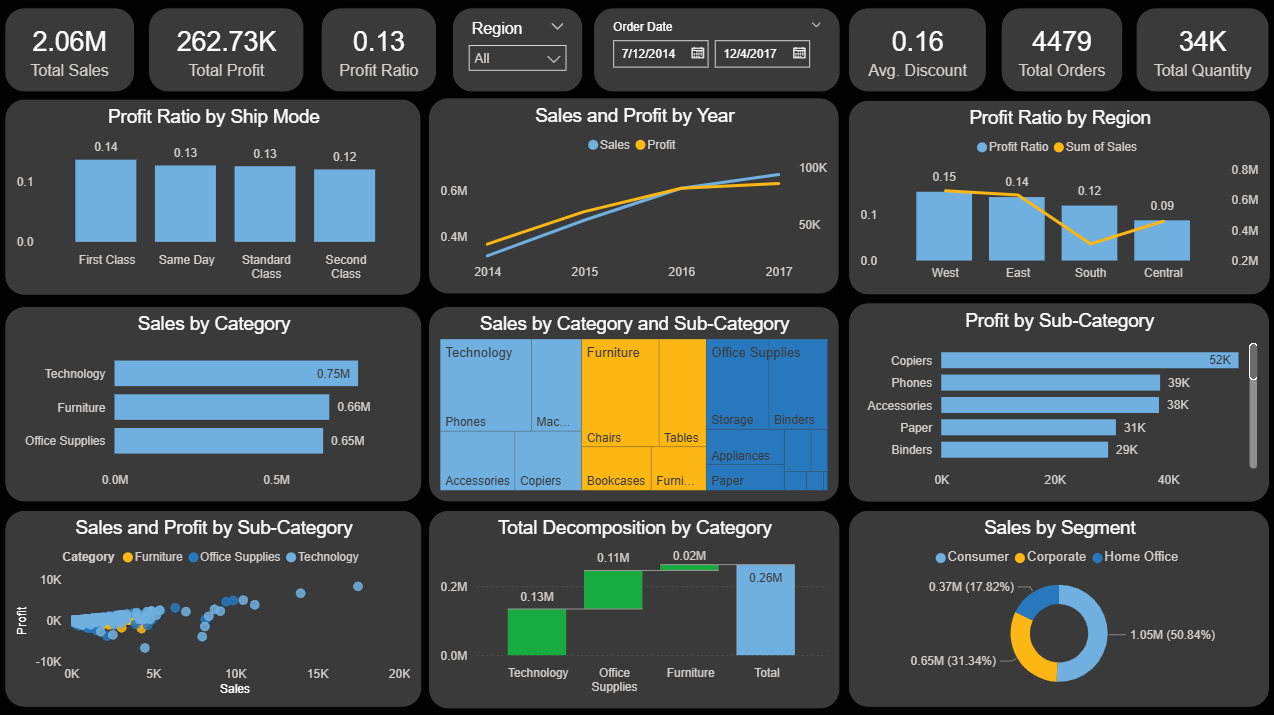

The page's visual inventory and layout, read from the dashboard file:
{"tool":"powerbi","page":{"name":"Dashboard ","canvas":[1280,720],"ordinal":0},"visuals":[{"type":"card","fields":{"Values":["Sum(Sample - Superstore.Sales)"]},"box":[7.5,12.5,130,85],"z":0},{"type":"card","fields":{"Values":["Sum(Sample - Superstore.Profit)"]},"box":[151.2,12.5,156.2,85],"z":1000},{"type":"card","fields":{"Values":["MyMeasures.Profit Ratio"]},"box":[323.8,12.5,116.2,85],"z":2000},{"type":"slicer","fields":{"Values":["Sample - Superstore.Region"]},"box":[455,12.5,131.2,85],"z":3000},{"type":"slicer","fields":{"Values":["Sample - Superstore.Order Date"]},"box":[596.4,12.7,247.3,84.5],"z":4000},{"type":"card","fields":{"Values":["Count(Sample - Superstore.Order ID)"]},"box":[1003.8,12.5,122.5,85],"z":5000},{"type":"card","fields":{"Values":["Sum(Sample - Superstore.Quantity)"]},"box":[1138.8,12.5,133.8,85],"z":6000},{"type":"card","fields":{"Values":["MyMeasures.Average Discount"]},"box":[851.2,12.5,138.8,85],"z":7000},{"type":"lineChart","title":"Sales and Profit by Year","fields":{"Category":["Sample - Superstore.Order Date.Variation.Date Hierarchy.Year"],"Y":["Sum(Sample - Superstore.Sales)"],"Y2":["Sum(Sample - Superstore.Profit)"]},"box":[431.4,102.9,411.4,197.1],"z":8000},{"type":"columnChart","title":"Profit Ratio by Ship Mode","fields":{"Category":["Sample - Superstore.Ship Mode"],"Y":["MyMeasures.Profit Ratio"]},"box":[7.1,104.3,417.1,197.1],"z":9000},{"type":"lineClusteredColumnComboChart","title":"Profit Ratio by Region","fields":{"Y":["MyMeasures.Profit Ratio"],"Category":["Sample - Superstore.Region"],"Y2":["Sum(Sample - Superstore.Sales)"]},"box":[851.1,104.4,422.2,195.6],"z":10000},{"type":"treemap","title":"Sales by Category and Sub-Category","fields":{"Group":["Sample - Superstore.Category"],"Details":["Sample - Superstore.Sub-Category"],"Values":["Sum(Sample - Superstore.Sales)"]},"box":[431.2,311.2,411.2,196.2],"z":10001},{"type":"waterfallChart","title":"Total Decomposition by Category","fields":{"Category":["Sample - Superstore.Category"],"Y":["Sum(Sample - Superstore.Profit)"]},"box":[431.7,515,411.7,199.2],"z":10002},{"type":"clusteredBarChart","title":"Sales by Category","fields":{"Category":["Sample - Superstore.Category"],"Y":["Sum(Sample - Superstore.Sales)"]},"box":[7.5,311.2,417.5,196.2],"z":10003},{"type":"clusteredBarChart","title":"Profit by Sub-Category","fields":{"Category":["Sample - Superstore.Sub-Category"],"Y":["Sum(Sample - Superstore.Profit)"]},"box":[851.2,307.5,421.2,200],"z":10004},{"type":"scatterChart","title":"Sales and Profit by Sub-Category","fields":{"X":["Sample - Superstore.Sales"],"Y":["Sample - Superstore.Profit"],"Series":["Sample - Superstore.Category"]},"box":[7.5,515,417.5,197.5],"z":10005},{"type":"donutChart","title":"Sales by Segment","fields":{"Y":["Sum(Sample - Superstore.Sales)"],"Category":["Sample - Superstore.Segment"]},"box":[850.8,515,421.7,197.5],"z":10006}]}

Visuals, with their boxes in screenshot pixels (x1, y1, x2, y2), scaled from the page's 1280x720 canvas onto the 1274x715 screenshot:
card - Sum(Sample - Superstore.Sales): <bbox>7, 12, 137, 97</bbox>
card - Sum(Sample - Superstore.Profit): <bbox>150, 12, 306, 97</bbox>
card - MyMeasures.Profit Ratio: <bbox>322, 12, 438, 97</bbox>
slicer - Sample - Superstore.Region: <bbox>453, 12, 583, 97</bbox>
slicer - Sample - Superstore.Order Date: <bbox>594, 13, 840, 97</bbox>
card - Count(Sample - Superstore.Order ID): <bbox>999, 12, 1121, 97</bbox>
card - Sum(Sample - Superstore.Quantity): <bbox>1133, 12, 1267, 97</bbox>
card - MyMeasures.Average Discount: <bbox>847, 12, 985, 97</bbox>
"Sales and Profit by Year" lineChart: <bbox>429, 102, 839, 298</bbox>
"Profit Ratio by Ship Mode" columnChart: <bbox>7, 104, 422, 299</bbox>
"Profit Ratio by Region" lineClusteredColumnComboChart: <bbox>847, 104, 1267, 298</bbox>
"Sales by Category and Sub-Category" treemap: <bbox>429, 309, 838, 504</bbox>
"Total Decomposition by Category" waterfallChart: <bbox>430, 511, 839, 709</bbox>
"Sales by Category" clusteredBarChart: <bbox>7, 309, 423, 504</bbox>
"Profit by Sub-Category" clusteredBarChart: <bbox>847, 305, 1266, 504</bbox>
"Sales and Profit by Sub-Category" scatterChart: <bbox>7, 511, 423, 708</bbox>
"Sales by Segment" donutChart: <bbox>847, 511, 1267, 708</bbox>
